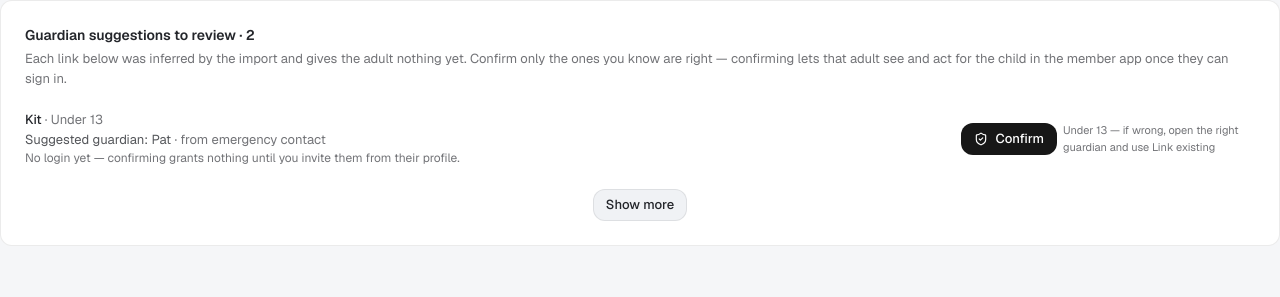
Test: GuardianReviewQueue › Show more loads the next page with the cursor
This screenshot has width=1280, height=297.
Click the button "Show more".
click(640, 205)  # box x1=593 y1=189 x2=687 y2=221
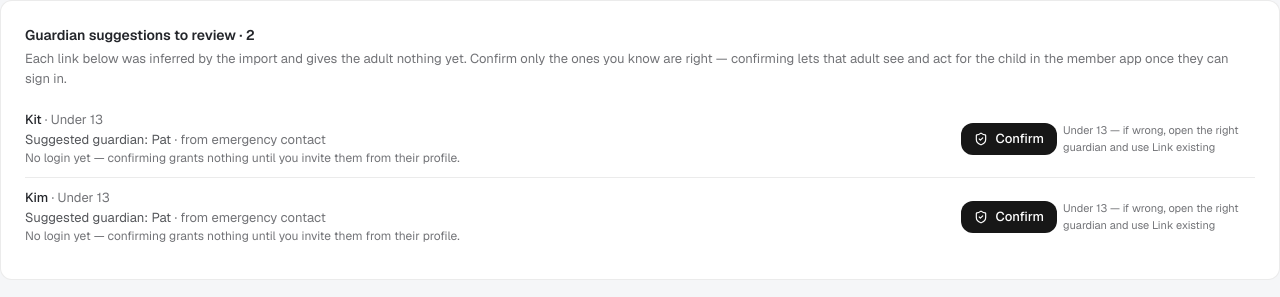
Expected: the link "Kim" is shown, x1=25 y1=189 x2=48 y2=206
Expected: the button "Show more" is gone
